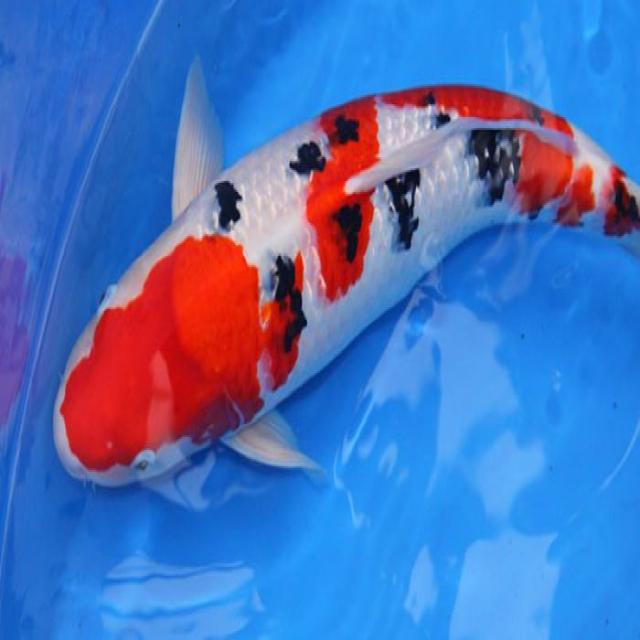Sanke: (51, 53, 639, 492)
